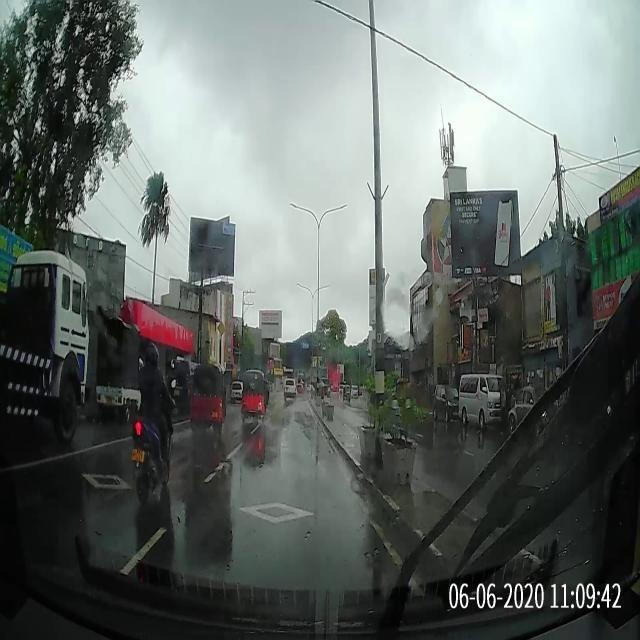diamond: (152, 498, 386, 538)
